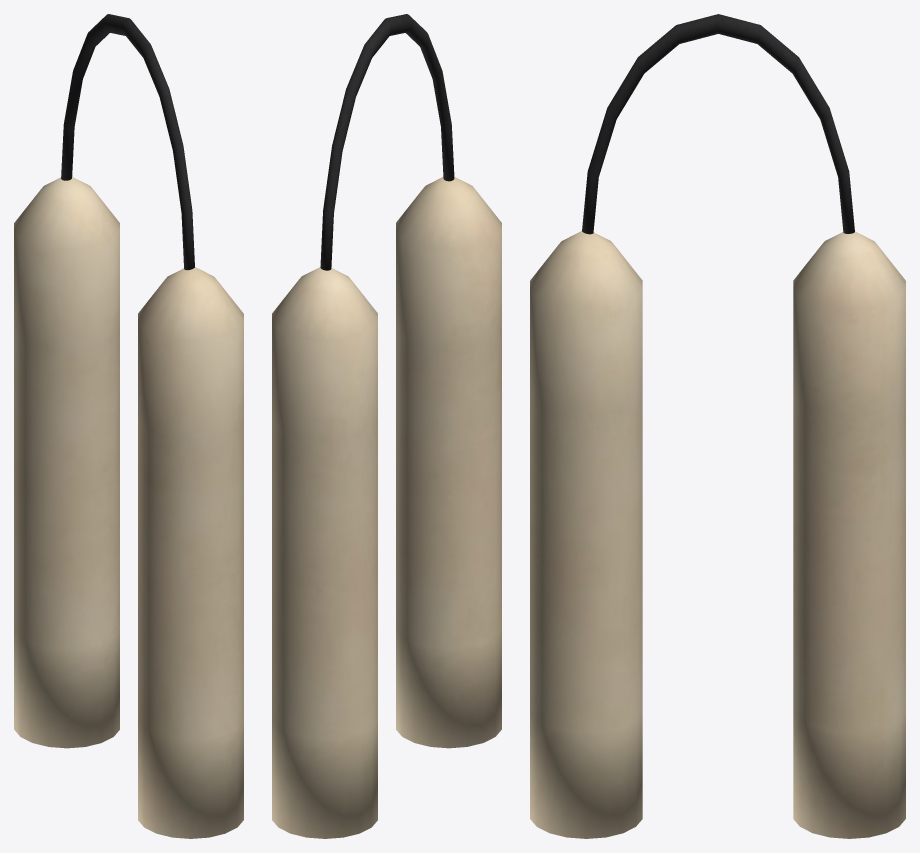
Rendered from beeswax_candle.glb.
3 renders of one model, left to right at view 1: azimuth 30°, elevation 25°; view 2: azimuth 150°, elevation 25°; view 3: azimuth 270°, elevation 25°, orthographic. The views are drawn at different scales.
Parts seen in each view (by area): view 1: Object_2, Object_3; view 2: Object_2, Object_3; view 3: Object_2, Object_3.
Boxes of the visible parts, box(x1,y1,x2,y2) form: Object_2: box(14, 177, 243, 838); Object_3: box(61, 14, 194, 270); Object_2: box(272, 177, 501, 838); Object_3: box(320, 14, 454, 270); Object_2: box(530, 231, 905, 838); Object_3: box(582, 14, 854, 234).
Bounding box in the file's own units: 11.01 × 85 × 36.18.
Materials: 2 (2 with a texture image).
